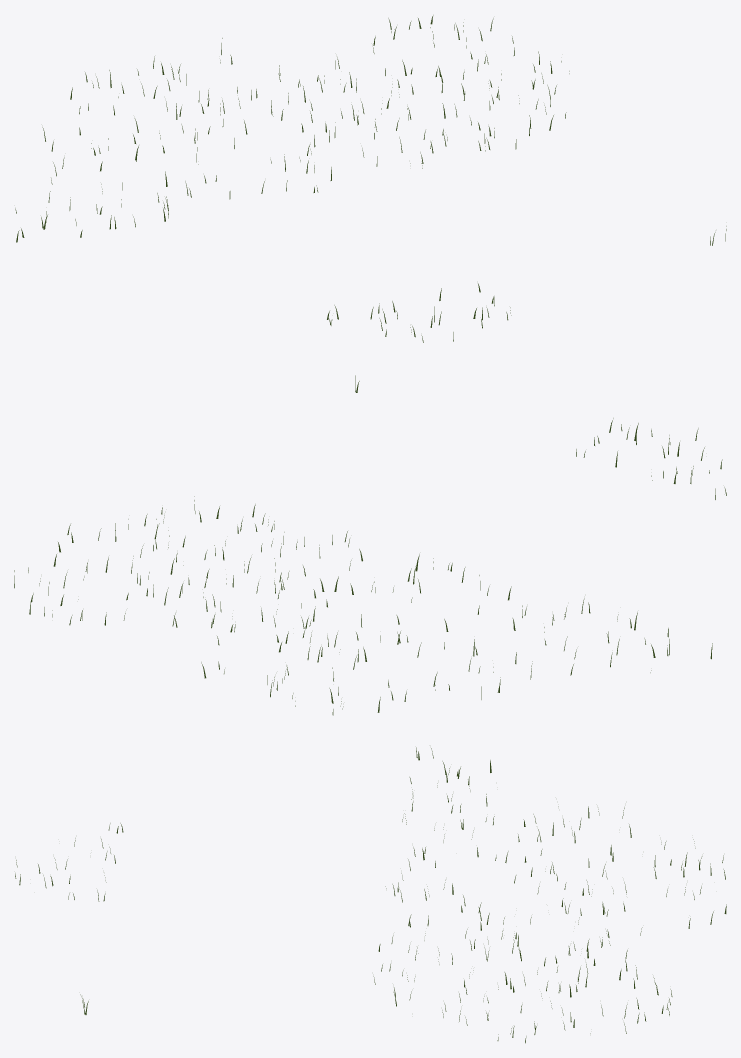
3 views of the same model, one above another, from view 1: azimuth 30°, elevation 25°; view 2: azimuth 150°, elevation 25°; view 3: azimuth 270°, elevation 25° (orthographic). The views are drawn at different scales.
Visible parts, largest first — view 1: GrassPatch; view 2: GrassPatch; view 3: GrassPatch.
Part boxes in pixels (x1=…): GrassPatch: x1=15, y1=15, x2=726, y2=342; GrassPatch: x1=14, y1=375, x2=726, y2=715; GrassPatch: x1=15, y1=747, x2=726, y2=1043.
Size of the model in its own units: 16.86 by 0.4914 by 17.76.
